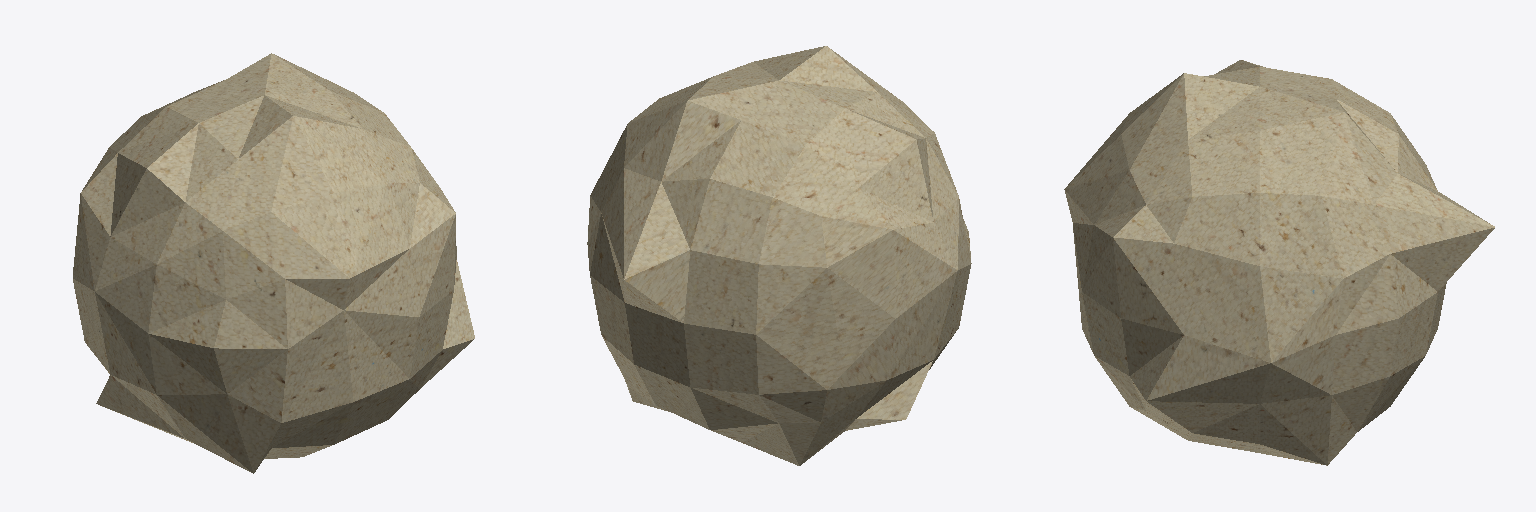
3 renders of one model, left to right at view 1: azimuth 30°, elevation 25°; view 2: azimuth 150°, elevation 25°; view 3: azimuth 270°, elevation 25°, orthographic.
Parts seen in each view (by area): view 1: Cube; view 2: Cube; view 3: Cube.
Part boxes in pixels (x1,y1,x2,y2): Cube: (73,53,474,473); Cube: (587,46,971,465); Cube: (1064,60,1494,465).
Bounding box in the file's own units: 1.78 × 1.72 × 1.9.
Materials: 1 (1 with a texture image).